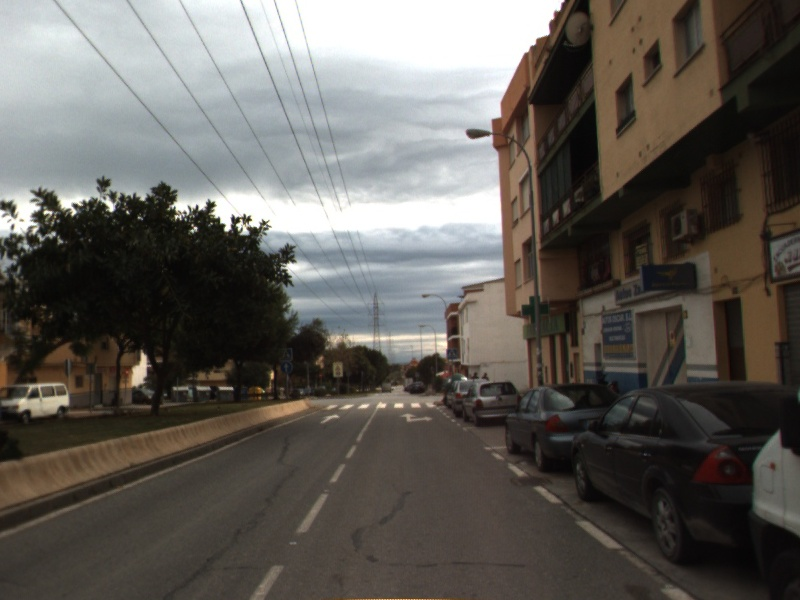STRAIGHT: (318, 412, 343, 425)
STRAIGHT_RIGHT: (398, 411, 435, 424)
